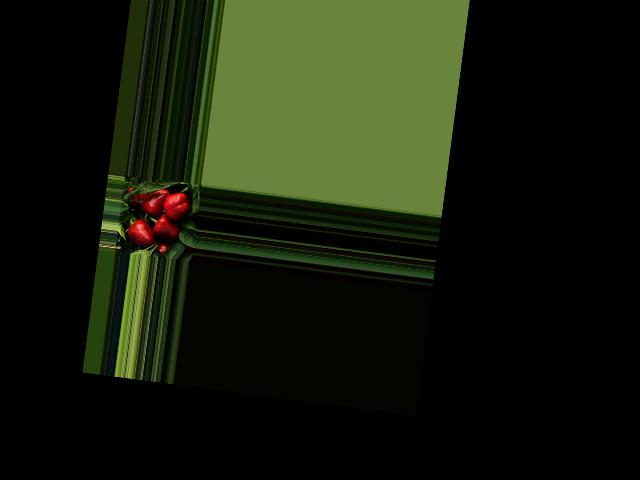bell_pepper: (160, 188, 192, 228)
